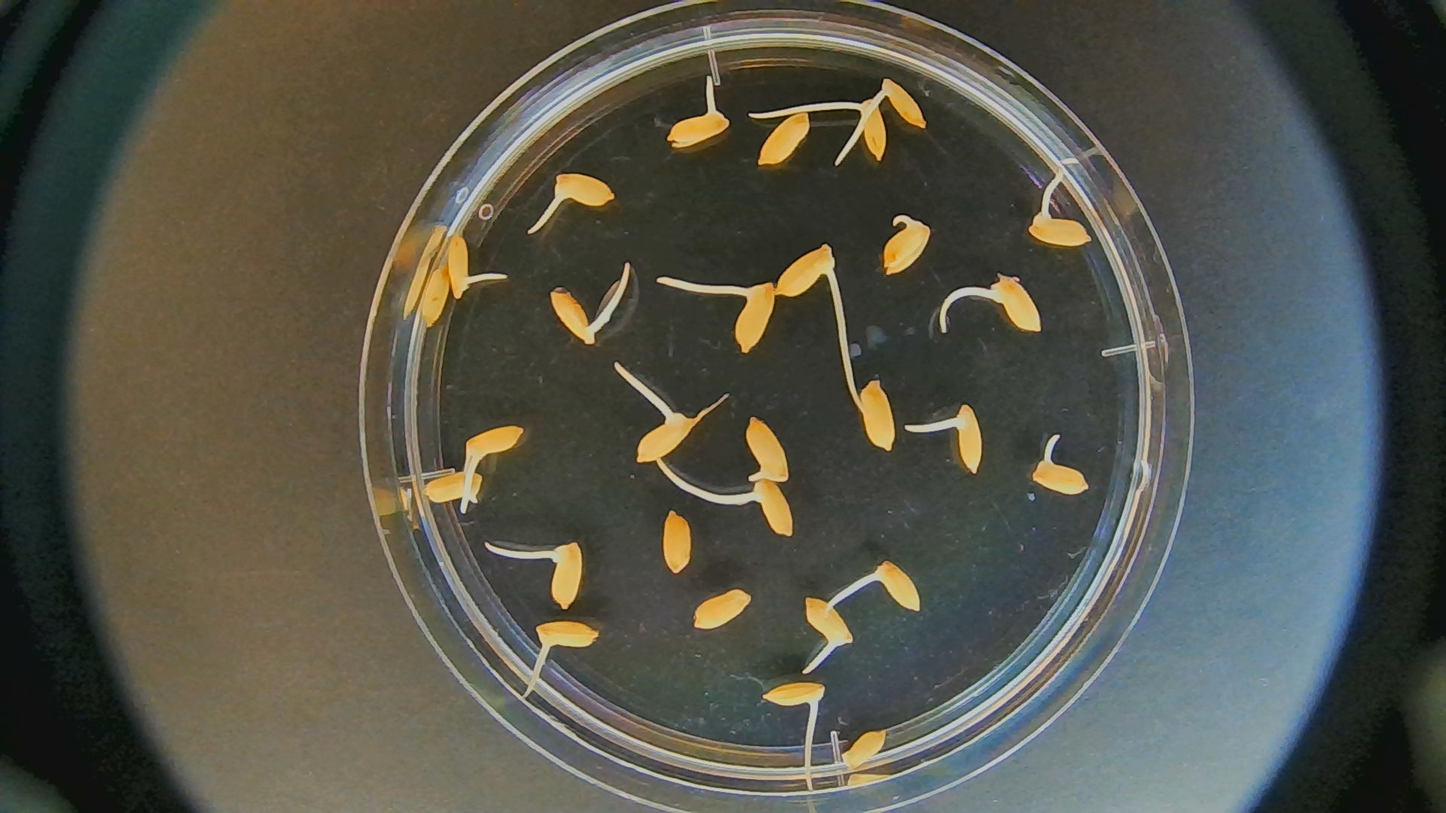no: (758, 114, 811, 168), (860, 378, 895, 451), (692, 589, 752, 631), (423, 468, 484, 506), (840, 728, 890, 774), (419, 264, 450, 333), (664, 509, 690, 574)
yes: (776, 243, 835, 298), (743, 416, 789, 484), (989, 274, 1042, 330), (732, 282, 775, 349), (743, 481, 795, 536), (633, 416, 691, 464), (664, 106, 730, 148), (882, 219, 929, 276), (550, 172, 616, 209), (547, 543, 584, 609), (1029, 456, 1088, 497), (805, 598, 854, 647), (881, 80, 926, 130), (875, 559, 920, 609), (1030, 209, 1090, 246), (554, 287, 592, 344), (464, 425, 523, 461), (955, 405, 984, 475), (535, 621, 599, 650), (765, 681, 826, 711), (448, 238, 474, 297), (859, 104, 886, 160)
